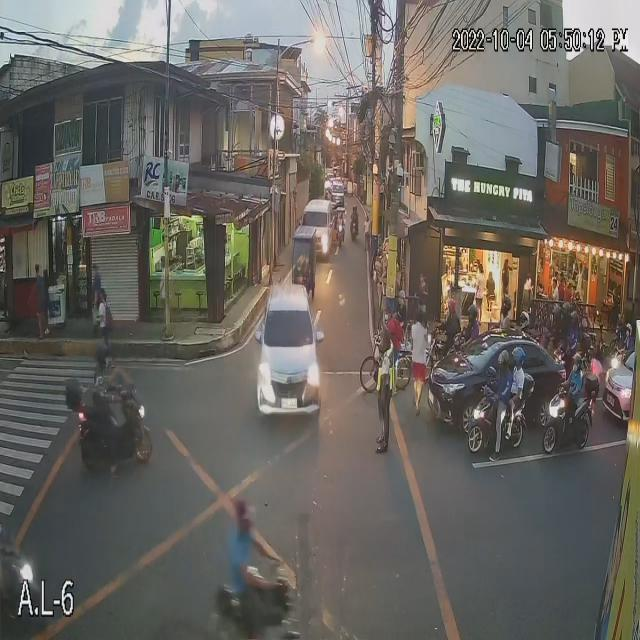helmet: (96, 343, 111, 369), (497, 352, 511, 372), (570, 310, 583, 330), (552, 304, 562, 330), (518, 312, 532, 327), (514, 347, 523, 370), (500, 295, 510, 315), (468, 305, 479, 323), (572, 353, 581, 372), (448, 300, 458, 317), (562, 301, 570, 316), (624, 323, 631, 339)
motorcycle: (66, 383, 152, 472), (467, 362, 527, 452), (541, 372, 600, 453), (0, 540, 36, 640), (427, 335, 468, 393), (348, 208, 360, 240)
rider: (91, 341, 119, 443), (489, 348, 510, 431), (561, 353, 587, 417), (507, 345, 524, 413), (496, 294, 514, 329), (440, 298, 459, 330), (463, 303, 480, 338), (550, 303, 566, 339), (621, 317, 635, 358), (517, 307, 532, 342), (568, 309, 584, 341), (562, 301, 571, 331), (350, 205, 358, 222)
